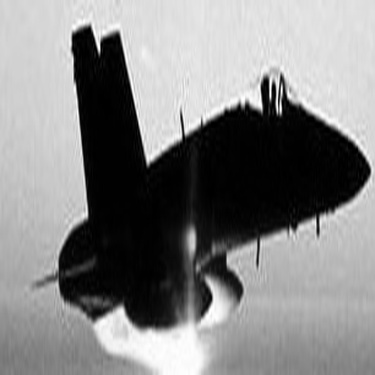airplane: (24, 17, 372, 338)
